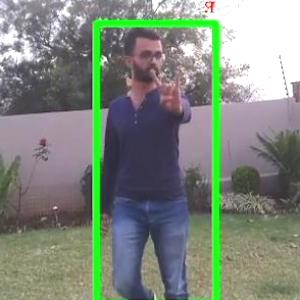takeoff-hand: (147, 66, 193, 117)
